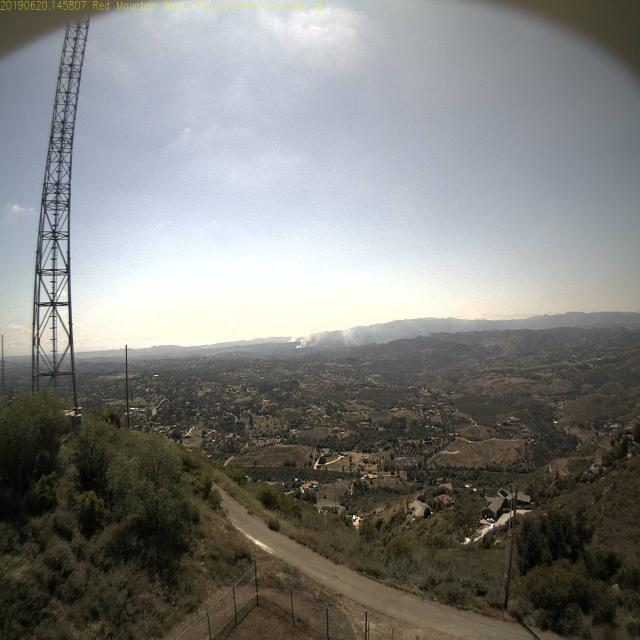smoke: (292, 331, 316, 357)
